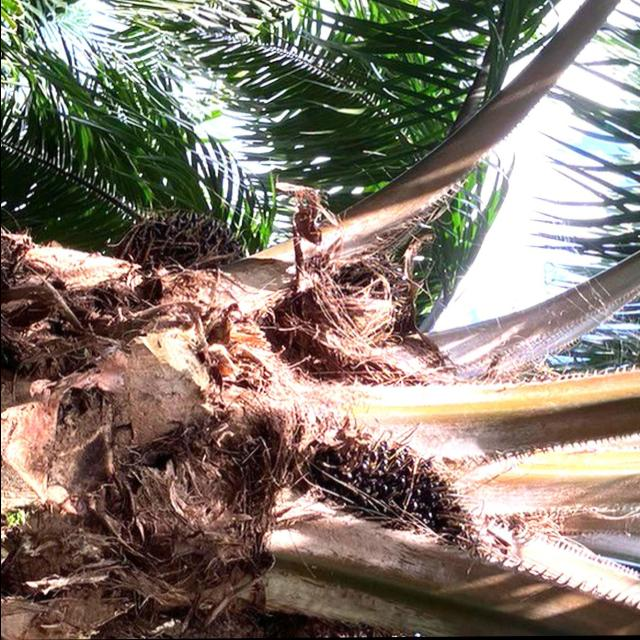unripe: (291, 400, 500, 567)
